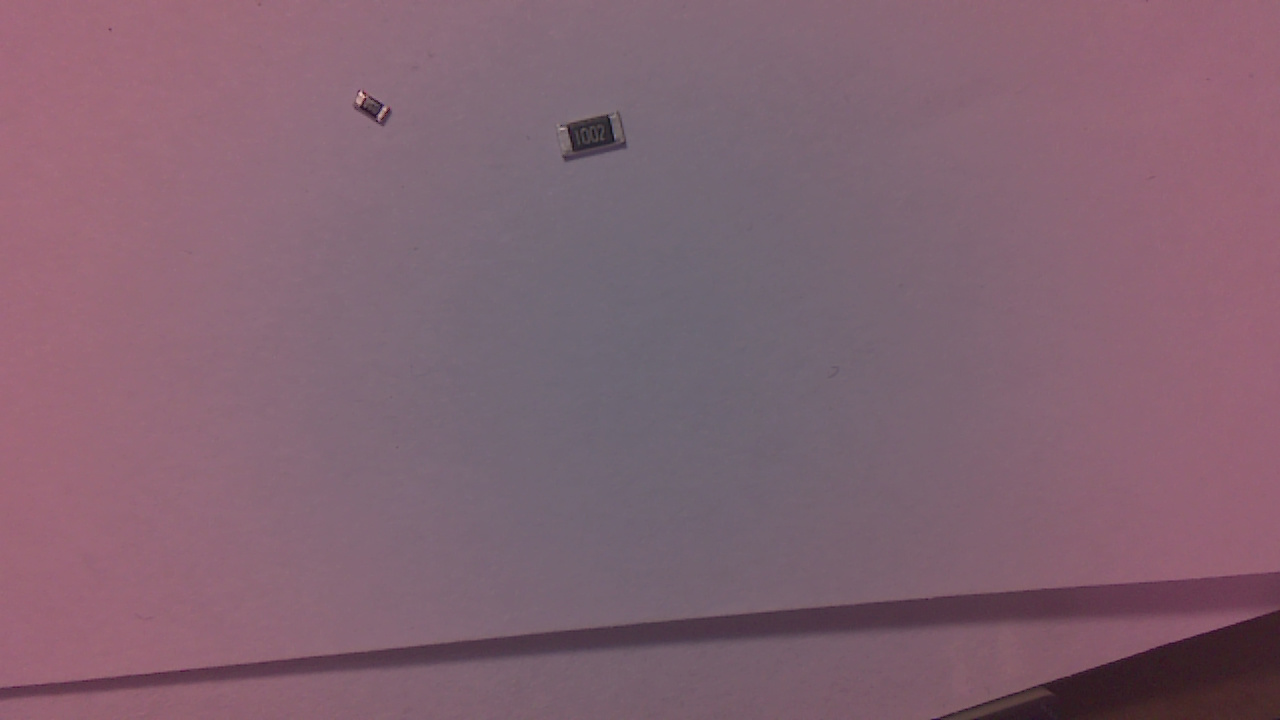Resistor: (558, 107, 629, 169), (354, 96, 397, 128)
